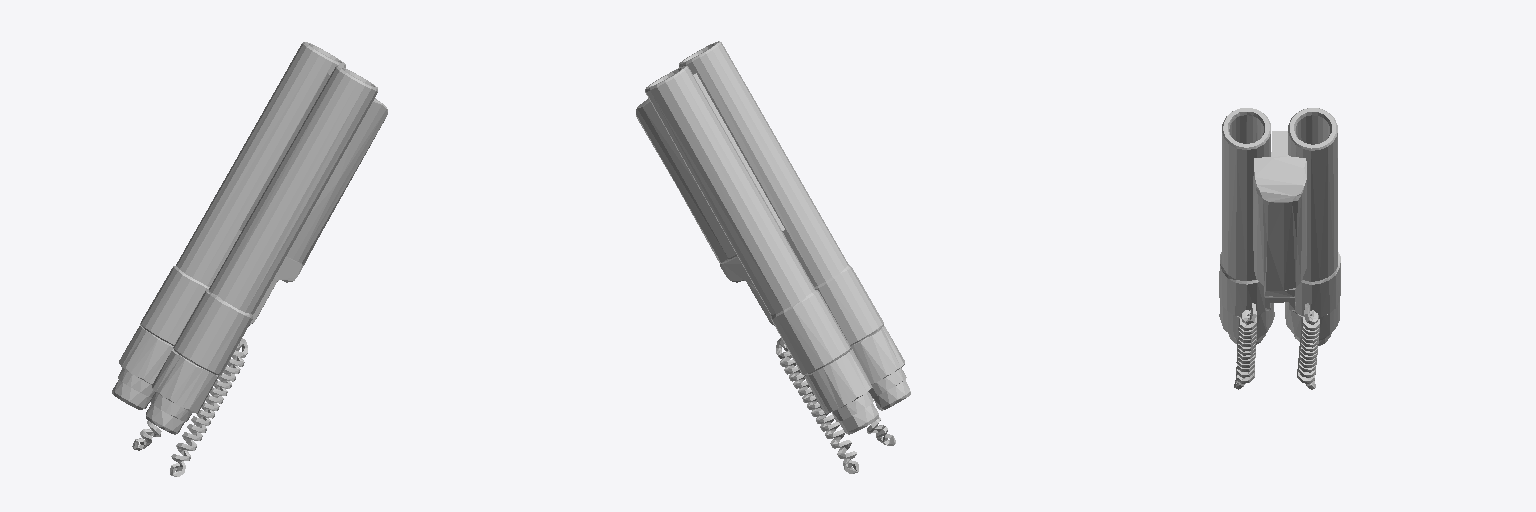
The model's file is DBBarrel.obj.
The picture shows the model from 3 angles: view 1: azimuth 30°, elevation 25°; view 2: azimuth 150°, elevation 25°; view 3: azimuth 270°, elevation 25°; orthographic projection.
Visible parts, largest first — view 1: Mesh_0119.rip; view 2: Mesh_0119.rip; view 3: Mesh_0119.rip.
Boxes of the visible parts, x1,y1,x2,y2 form: Mesh_0119.rip: [112, 42, 387, 476]; Mesh_0119.rip: [636, 41, 910, 473]; Mesh_0119.rip: [1219, 108, 1340, 389].
Size of the model in its own units: 0.3114 by 0.4358 by 0.1321.